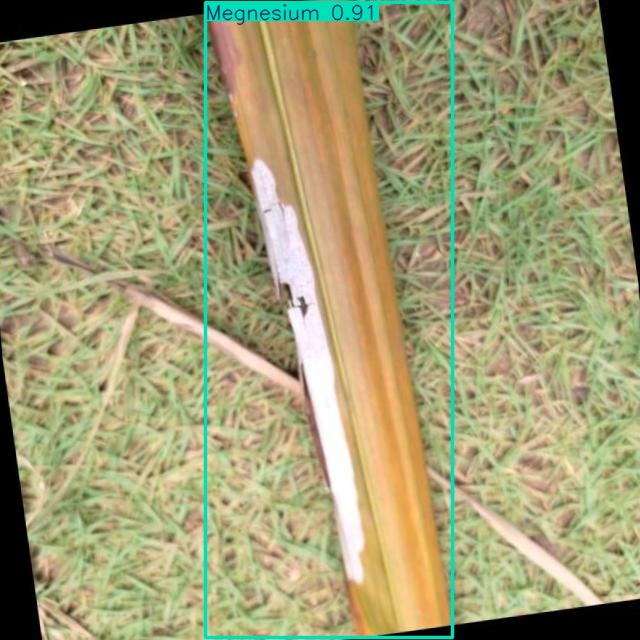Megnesium: (205, 2, 452, 638)
